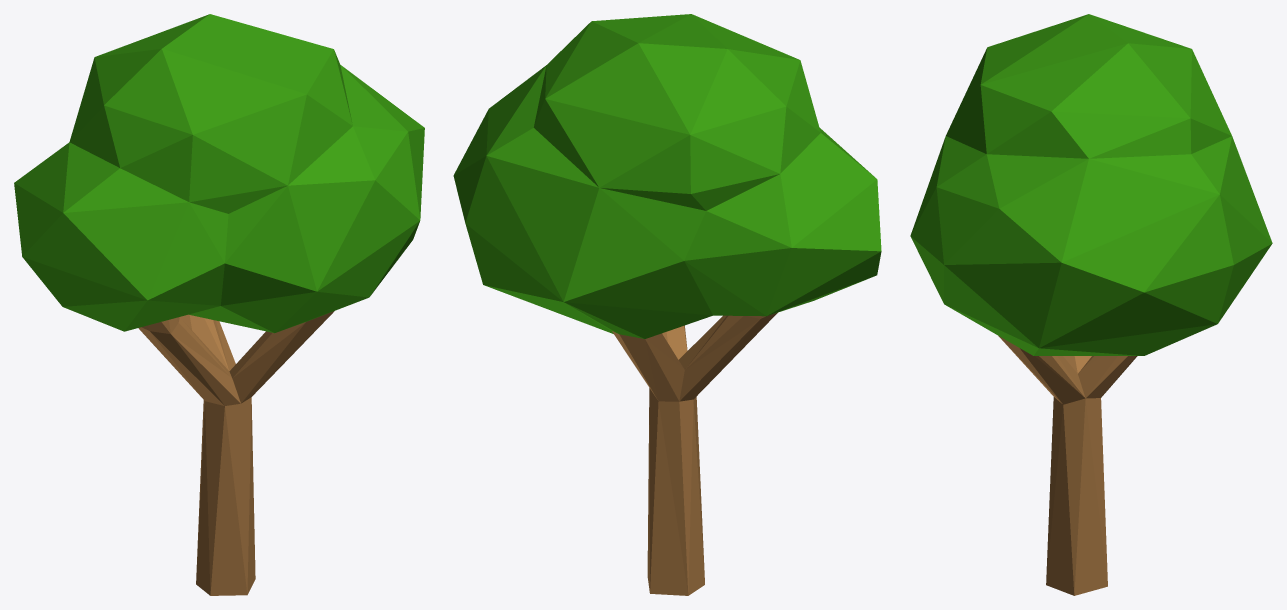
Rendered from tree.glb.
3 views of the same model, side by side, from view 1: azimuth 30°, elevation 25°; view 2: azimuth 150°, elevation 25°; view 3: azimuth 270°, elevation 25° (orthographic). The views are drawn at different scales.
Parts seen in each view (by area): view 1: Icosphere; view 2: Icosphere; view 3: Icosphere.
Part boxes in pixels (left/top/right/bottom): Icosphere: left=14, top=14, right=424, bottom=595; Icosphere: left=453, top=14, right=881, bottom=595; Icosphere: left=910, top=14, right=1272, bottom=595.
Bounding box in the file's own units: 4.05 × 5.39 × 3.26.
Materials: 1 (1 with a texture image).
